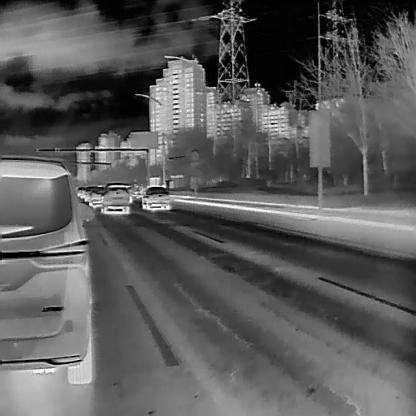car: (0, 154, 96, 386), (101, 180, 130, 214), (141, 184, 172, 210), (88, 186, 103, 207), (84, 185, 94, 201), (77, 186, 84, 198)
